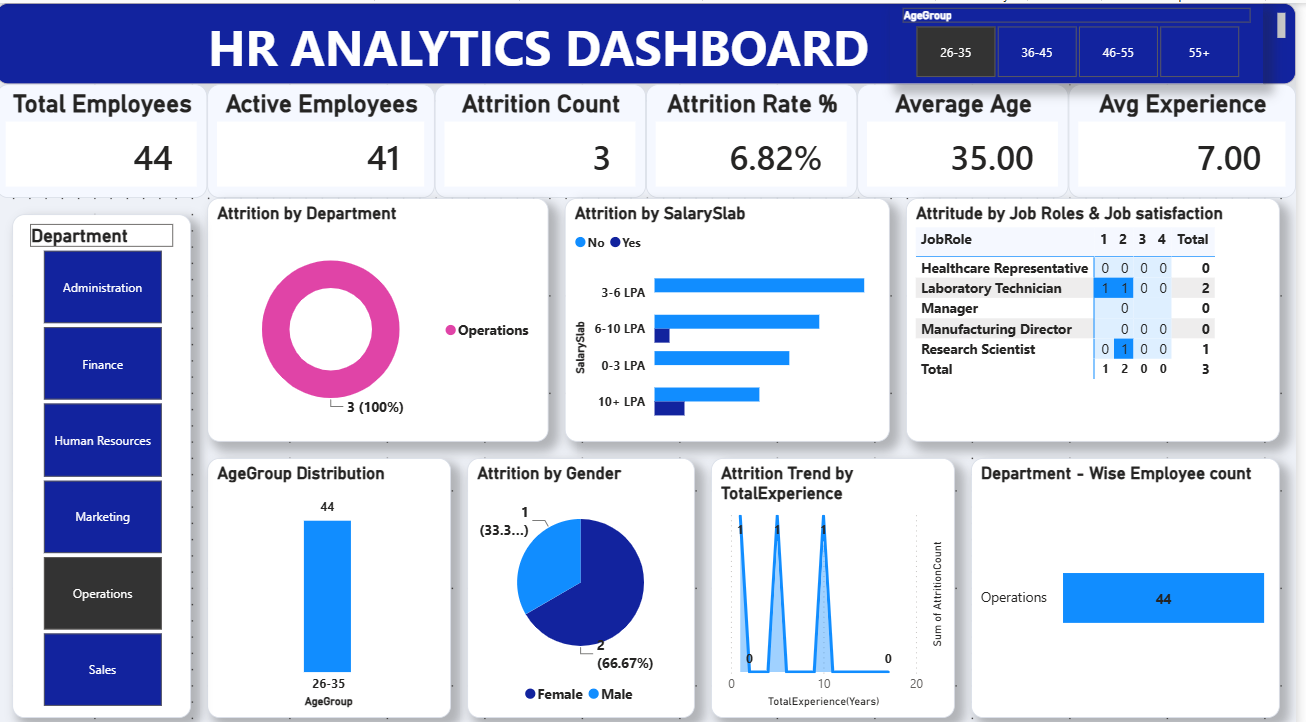

This screenshot's page, from the dashboard's own definition file:
{"tool":"powerbi","page":{"name":"Page 1","canvas":[1280,720],"ordinal":0},"visuals":[{"type":"textbox","box":[0,0,1280,80],"z":0},{"type":"cardVisual","title":"Total Employees","fields":{"Data":["CountNonNull(HR_Analytics-4.EmpID)"]},"box":[0,80,208,112],"z":1000},{"type":"cardVisual","title":"Active Employees","fields":{"Data":["CountNonNull(HR_Analytics-4.EmployeeCount)"]},"box":[208,80,224,112],"z":2000},{"type":"cardVisual","title":"Attrition Count","fields":{"Data":["Sum(HR_Analytics-4.AttritionCount)"]},"box":[432,80,208,112],"z":3000},{"type":"cardVisual","title":"Attrition Rate %","fields":{"Data":["HR_Analytics-4.Attrition Rate %"]},"box":[640,80,208,112],"z":4000},{"type":"cardVisual","title":"Average Age","fields":{"Data":["Avg(HR_Analytics-4.Age)"]},"box":[848,80,208,112],"z":5000},{"type":"cardVisual","title":"Avg Experience","fields":{"Data":["Avg(HR_Analytics-4.YearsatCompany)"]},"box":[1056,80,224,112],"z":6000},{"type":"donutChart","title":"Attrition by Department","fields":{"Category":["HR_Analytics-4.Department"],"Y":["Sum(HR_Analytics-4.AttritionCount)"]},"box":[208,192,336,240],"z":7000},{"type":"clusteredBarChart","title":"Attrition by SalarySlab","fields":{"Category":["HR_Analytics-4.SalarySlab"],"Y":["CountNonNull(HR_Analytics-4.EmpID)"],"Series":["HR_Analytics-4.Attrition"]},"box":[560,192,320,240],"z":8000},{"type":"pivotTable","title":"Attritude by Job Roles & Job satisfaction","fields":{"Rows":["HR_Analytics-4.JobRole"],"Values":["Sum(HR_Analytics-4.AttritionCount)"],"Columns":["HR_Analytics-4.JobSatisfaction"]},"box":[896,192,368,240],"z":9000},{"type":"columnChart","title":"AgeGroup Distribution","fields":{"Category":["HR_Analytics-4.AgeGroup"],"Y":["Sum(HR_Analytics-4.EmployeeCount)"]},"box":[208,448,240,256],"z":10000},{"type":"pieChart","title":" Attrition by Gender","fields":{"Category":["HR_Analytics-4.Gender"],"Y":["Sum(HR_Analytics-4.AttritionCount)"]},"box":[464,448,224,256],"z":11000},{"type":"areaChart","title":"Attrition Trend by TotalExperience","fields":{"Category":["HR_Analytics-4.TotalExperience(Years)"],"Y2":["Sum(HR_Analytics-4.AttritionCount)"]},"box":[704,448,240,256],"z":12000},{"type":"funnel","title":"Department - Wise Employee count","fields":{"Category":["HR_Analytics-4.Department"],"Y":["CountNonNull(HR_Analytics-4.EmpID)"]},"box":[960,448,304,256],"z":13000},{"type":"slicer","fields":{"Values":["HR_Analytics-4.Department"]},"box":[16,208,176,496],"z":14000},{"type":"slicer","fields":{"Values":["HR_Analytics-4.AgeGroup"]},"box":[880,0,368,80],"z":14001}]}

Visuals, with their boxes in screenshot pixels (x1, y1, x2, y2), scaled from the page's 1280x720 canvas onto the 1306x722 screenshot:
textbox: [x1=0, y1=0, x2=1305, y2=80]
"Total Employees" cardVisual: [x1=0, y1=80, x2=212, y2=193]
"Active Employees" cardVisual: [x1=212, y1=80, x2=441, y2=193]
"Attrition Count" cardVisual: [x1=441, y1=80, x2=653, y2=193]
"Attrition Rate %" cardVisual: [x1=653, y1=80, x2=865, y2=193]
"Average Age" cardVisual: [x1=865, y1=80, x2=1077, y2=193]
"Avg Experience" cardVisual: [x1=1077, y1=80, x2=1305, y2=193]
"Attrition by Department" donutChart: [x1=212, y1=193, x2=555, y2=433]
"Attrition by SalarySlab" clusteredBarChart: [x1=571, y1=193, x2=898, y2=433]
"Attritude by Job Roles & Job satisfaction" pivotTable: [x1=914, y1=193, x2=1290, y2=433]
"AgeGroup Distribution" columnChart: [x1=212, y1=449, x2=457, y2=706]
" Attrition by Gender" pieChart: [x1=473, y1=449, x2=702, y2=706]
"Attrition Trend by TotalExperience" areaChart: [x1=718, y1=449, x2=963, y2=706]
"Department - Wise Employee count" funnel: [x1=980, y1=449, x2=1290, y2=706]
slicer - HR_Analytics-4.Department: [x1=16, y1=209, x2=196, y2=706]
slicer - HR_Analytics-4.AgeGroup: [x1=898, y1=0, x2=1273, y2=80]
